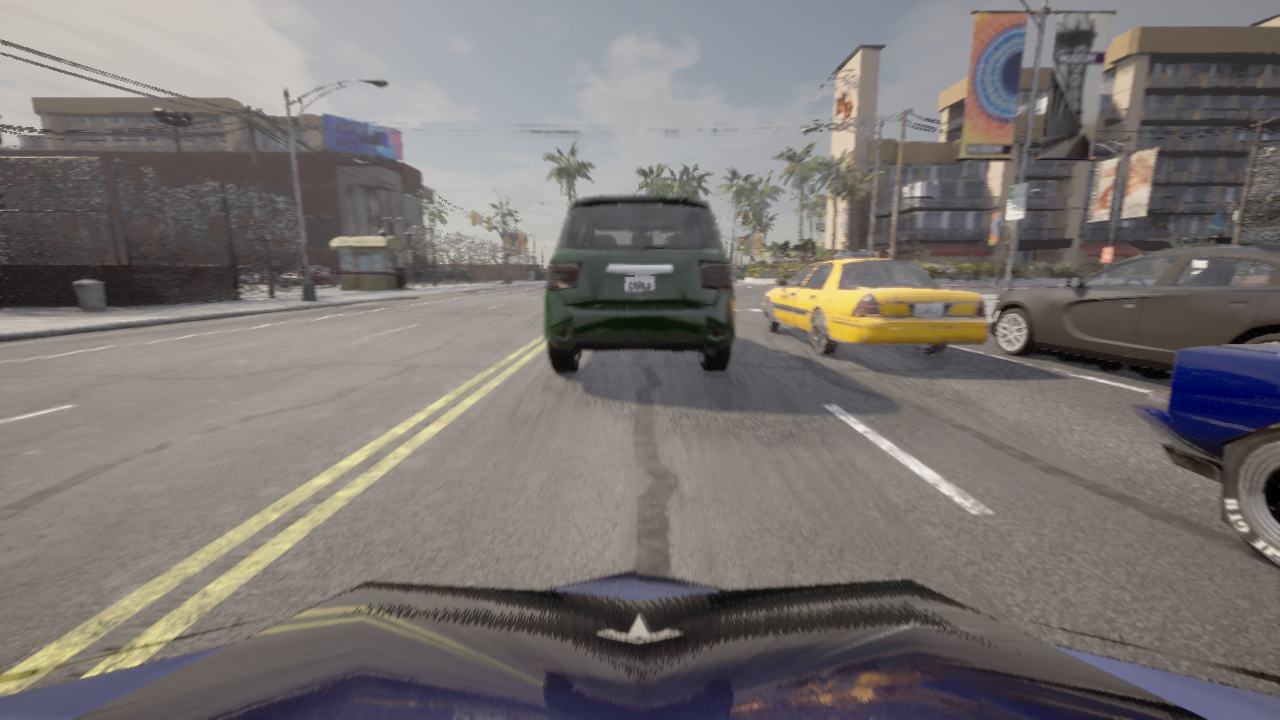cyclist: (0, 569, 1279, 719), (990, 243, 1279, 370), (544, 195, 734, 372), (1131, 345, 1279, 564), (762, 250, 988, 355), (279, 265, 337, 287), (423, 266, 474, 281), (240, 270, 278, 283)
